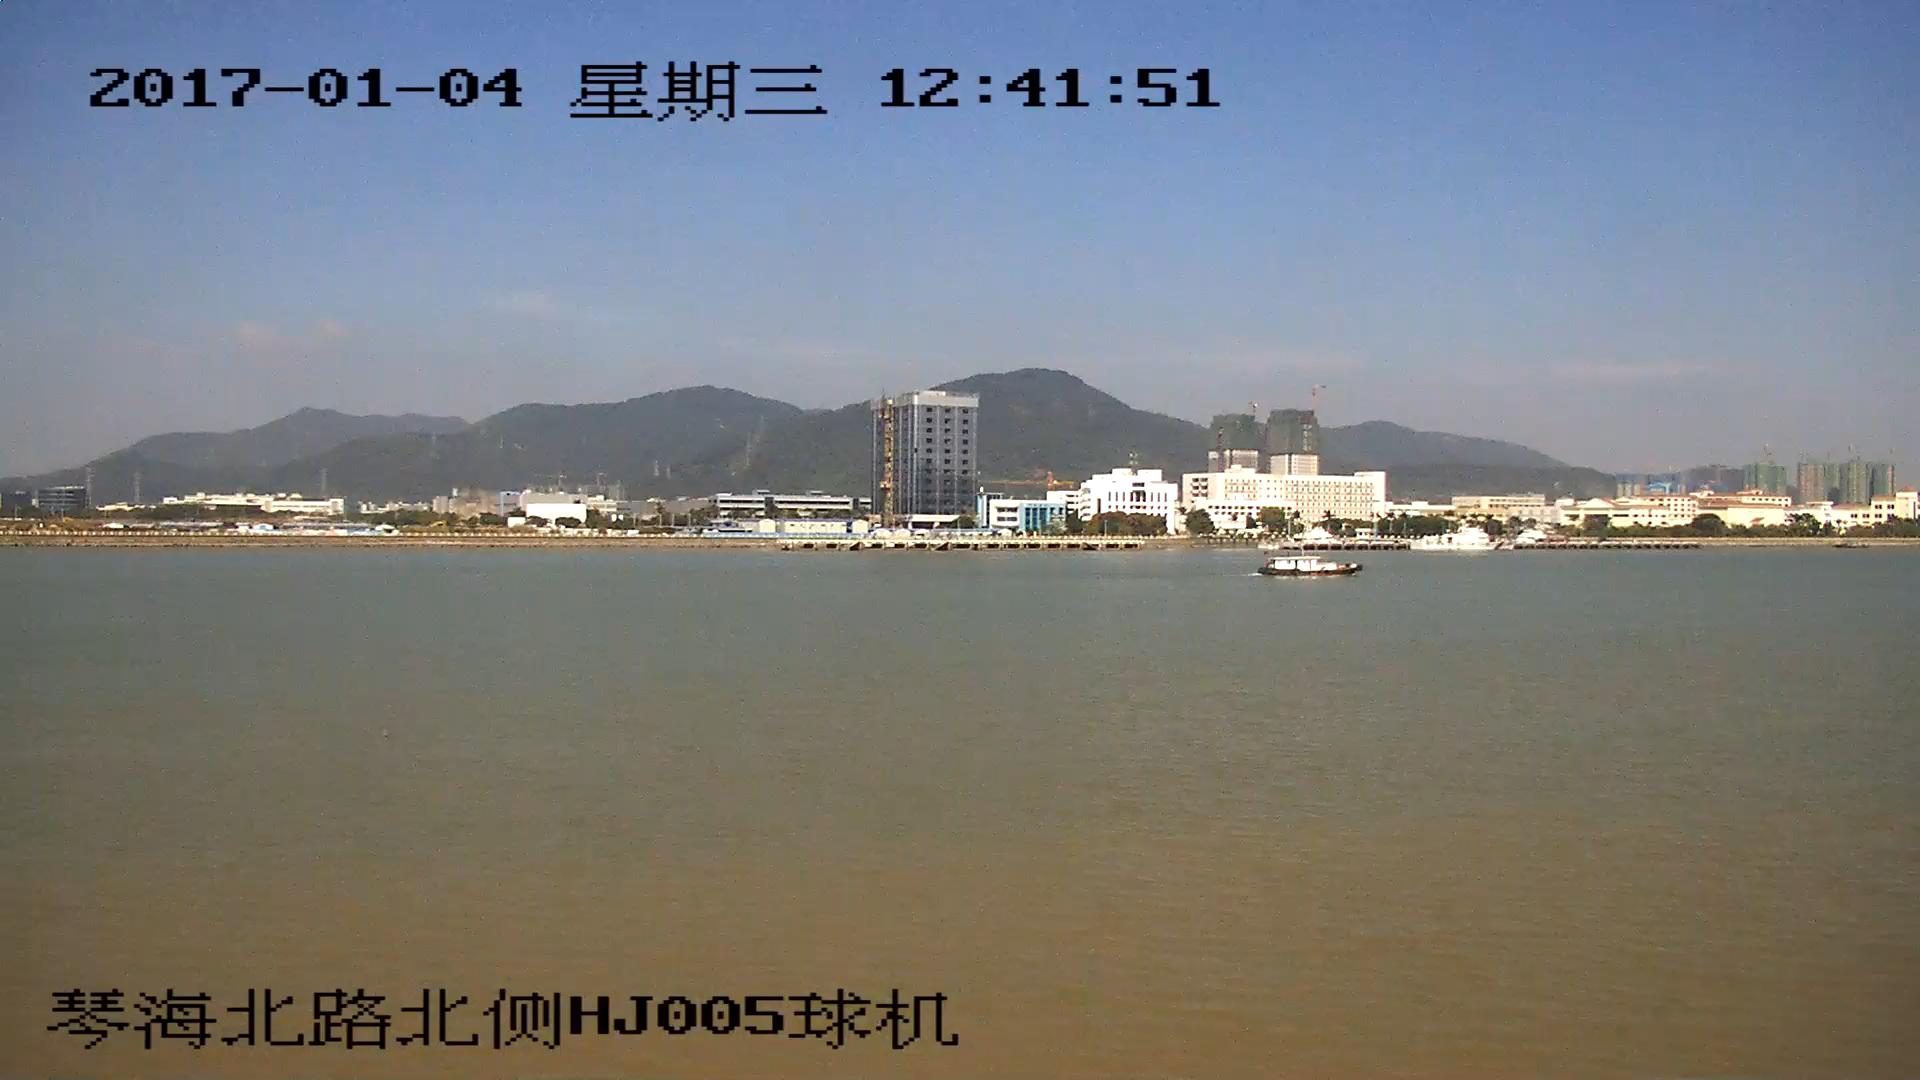fishing boat: (1260, 557, 1358, 575)
